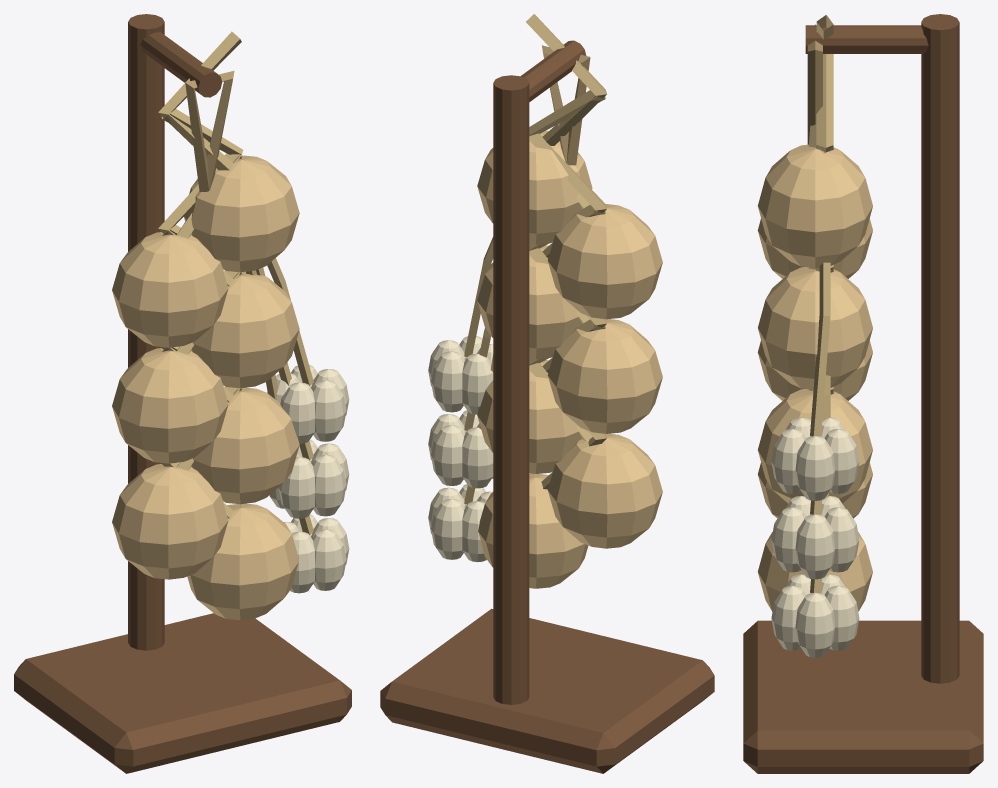
The picture shows the model from 3 angles, left to right: view 1: azimuth 30°, elevation 25°; view 2: azimuth 150°, elevation 25°; view 3: azimuth 270°, elevation 25°; orthographic projection. The views are drawn at different scales.
Visible parts, largest first — view 1: BA-0048 batched; view 2: BA-0048 batched; view 3: BA-0048 batched.
Boxes of the visible parts, bbox=[...] form: BA-0048 batched: bbox=[14, 14, 351, 773]; BA-0048 batched: bbox=[380, 14, 714, 773]; BA-0048 batched: bbox=[743, 14, 983, 773].
Size of the model in its own units: 0.328 by 0.827 by 0.25.
